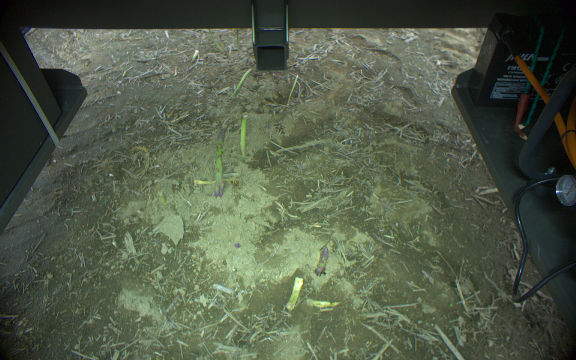aspa: (214, 124, 226, 197), (229, 68, 255, 100), (314, 245, 332, 274), (239, 114, 248, 158)
